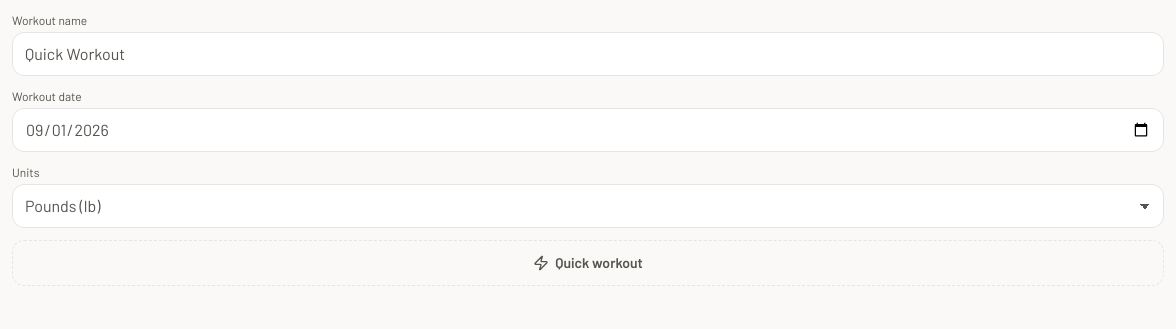
it: allows metadata correction with a new key only after a confirmed validation rejection
Clear the field labelled "Workout name" at (588, 54), box [12,32,1164,76]
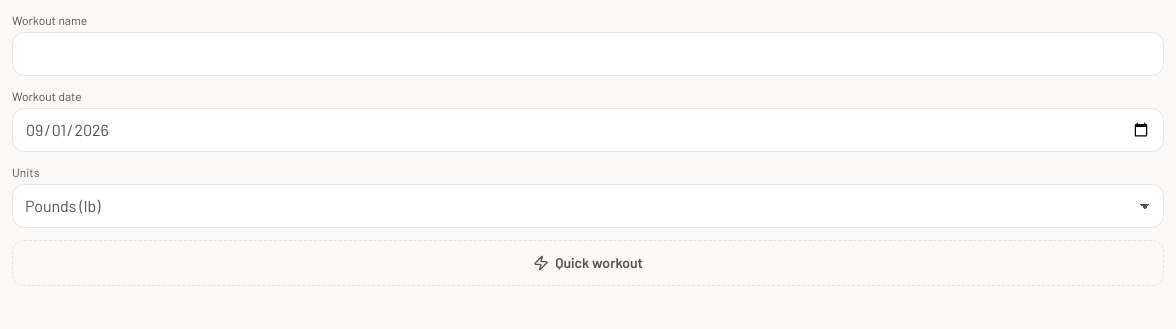
Click the button "Quick workout" at (588, 263), box [12,240,1164,286]
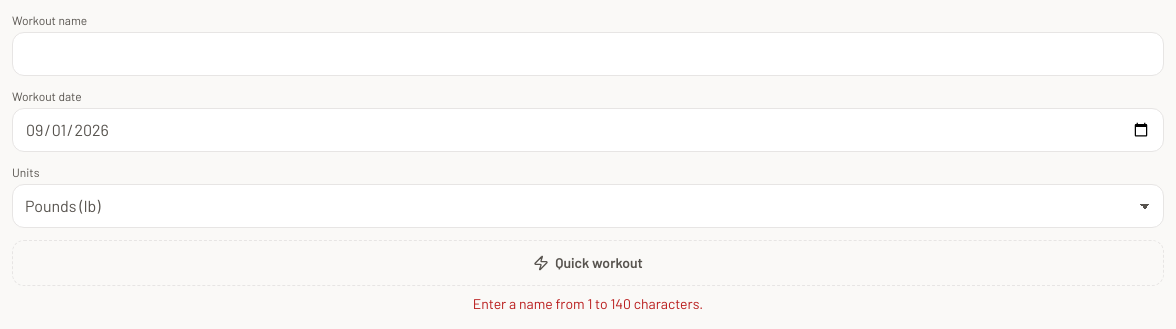
Check: the date field labelled "Workout date" is enabled, box [12,108,1164,152]
Check: the text "Enter a name from 1 to 140 characters." is shown, box [473,295,703,312]
Type "Corrected rows" into the field labelled "Workout name" at (588, 54), box [12,32,1164,76]
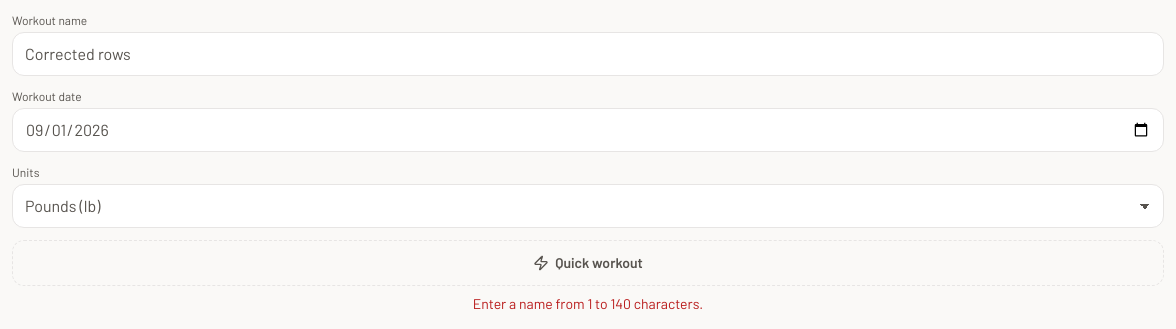
Type "2026-09-02" into the date field labelled "Workout date" at (588, 130), box [12,108,1164,152]
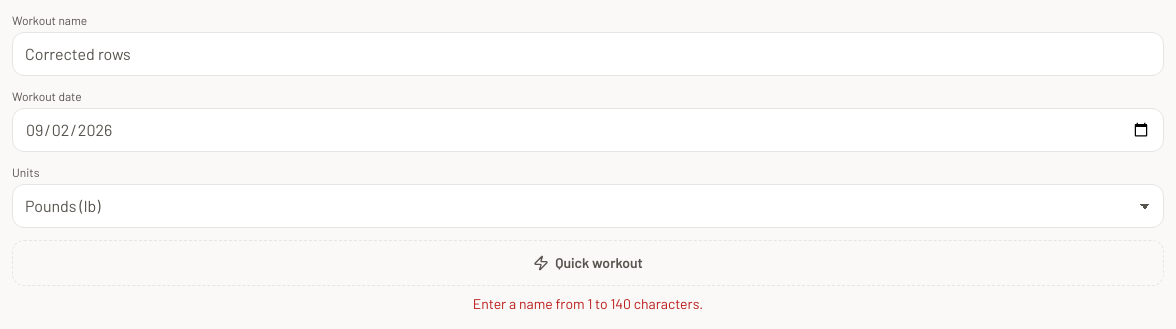
Select "Kilograms (kg)" in the dropdown named "Workout units" at (588, 206), box [12,184,1164,228]
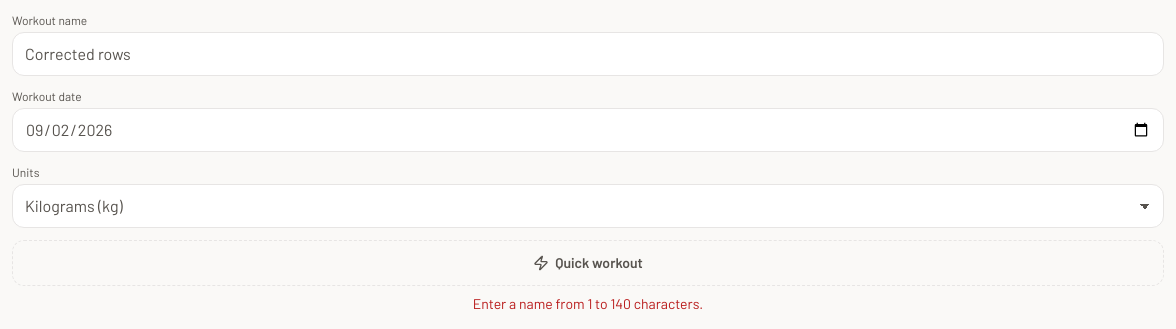
Click the button "Quick workout" at (588, 263), box [12,240,1164,286]
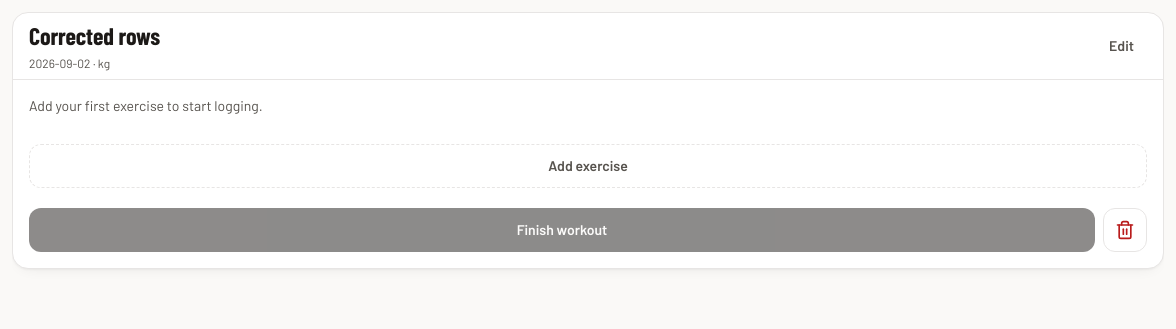
Check: the heading "Corrected rows" is shown, box [29,21,160,50]
